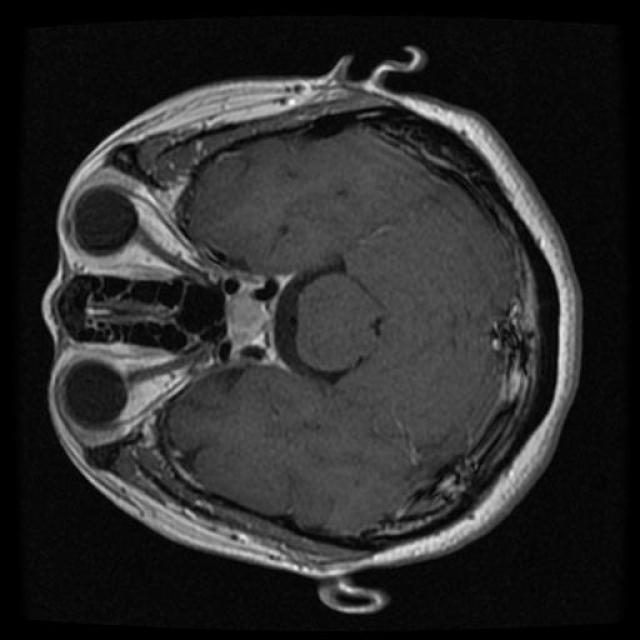Pituitary: (210, 268, 297, 372)
